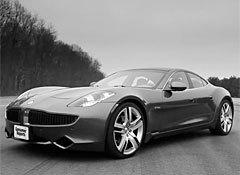car: (4, 66, 237, 162)
